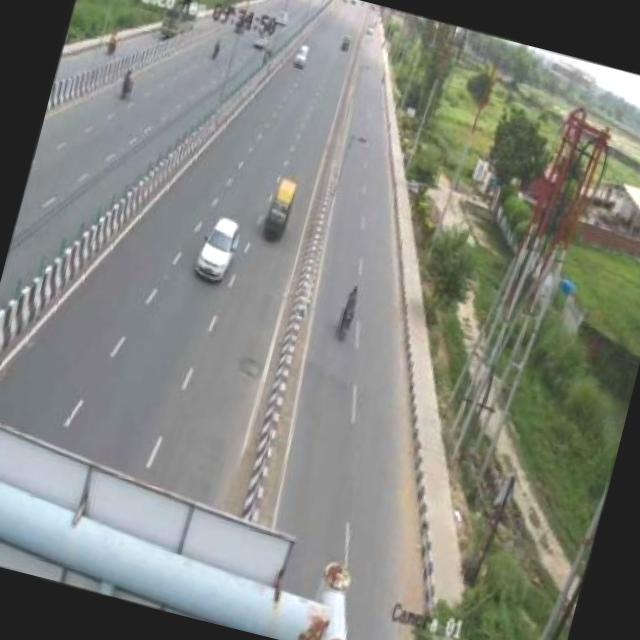car: (188, 205, 250, 290)
